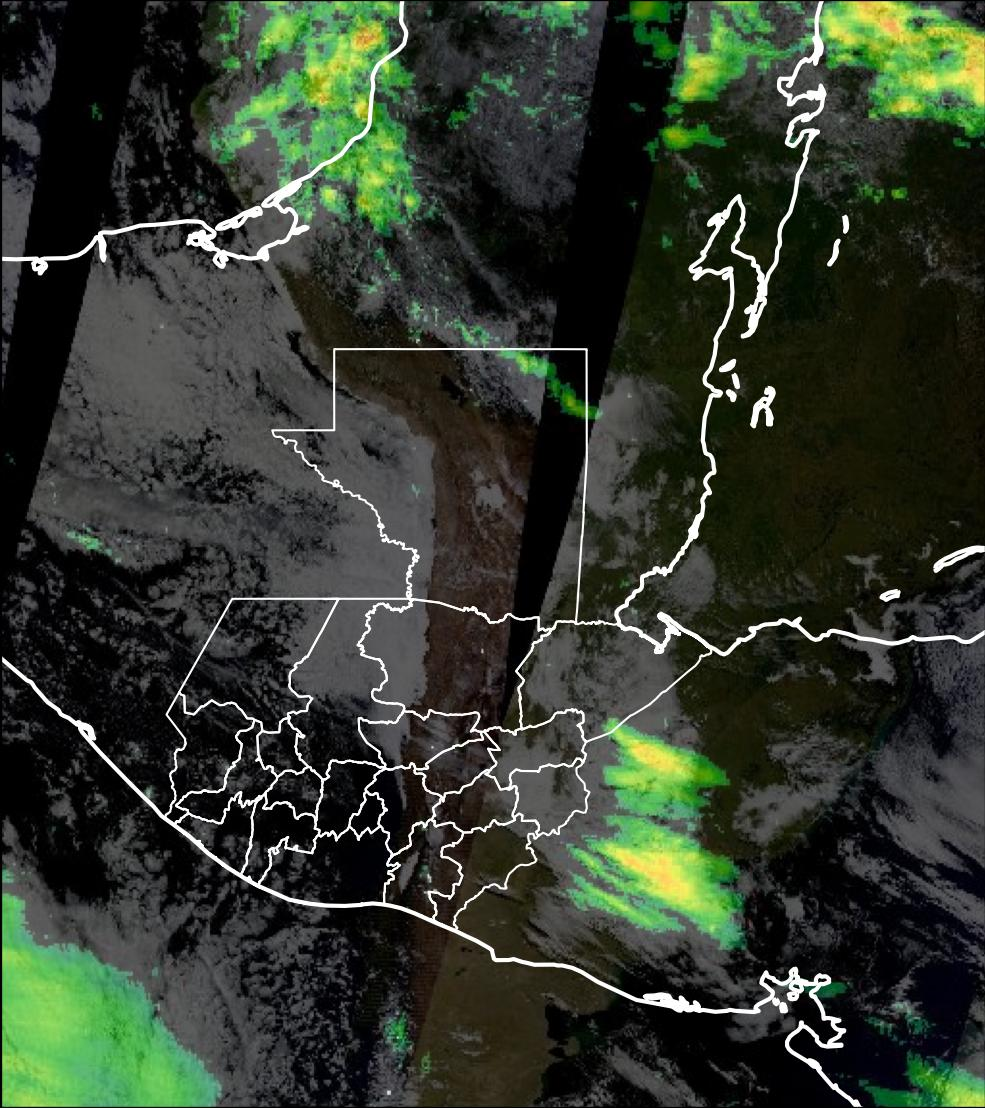precipitacion: (848, 1, 931, 56)
